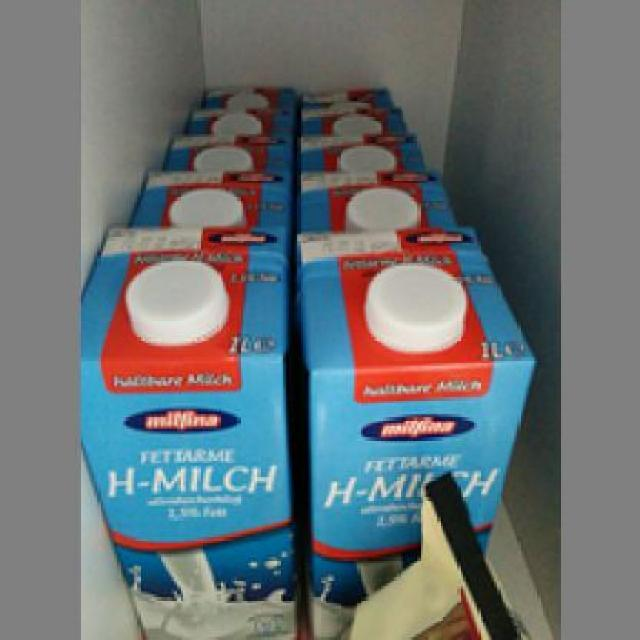Milk: (294, 222, 537, 638), (74, 220, 300, 637)
